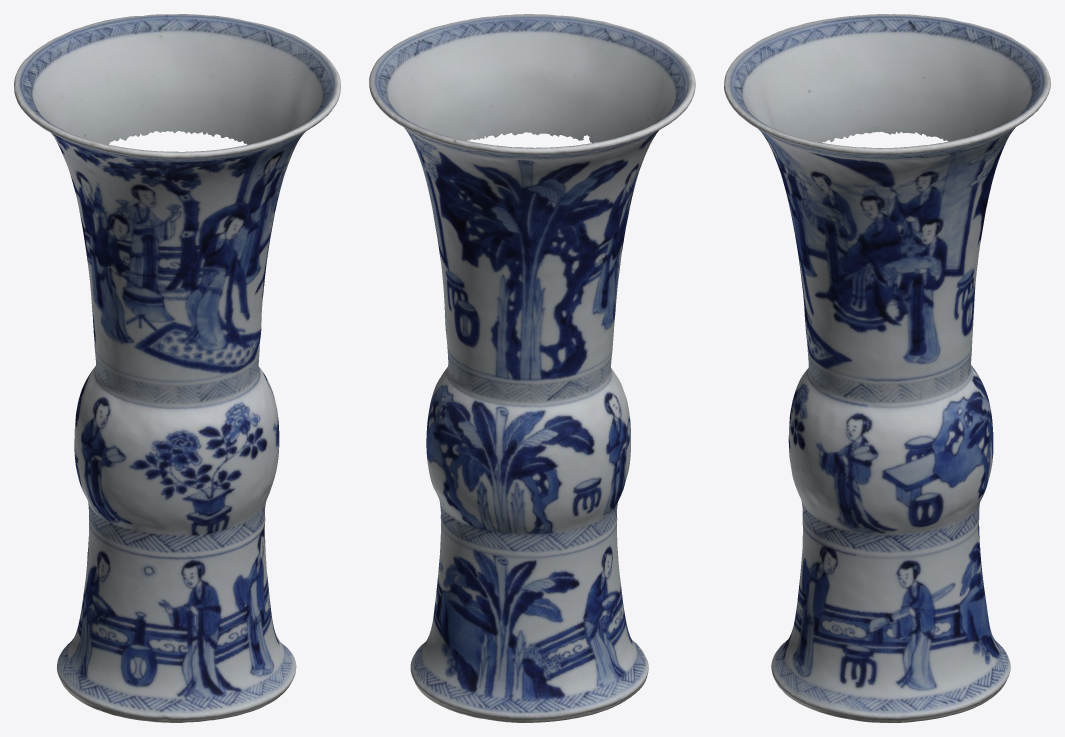
The model's file is f1980_193-smooth-textured-150k-2048-medium-100k-2048_std_draco.glb.
3 renders of one model, left to right at view 1: azimuth 30°, elevation 25°; view 2: azimuth 150°, elevation 25°; view 3: azimuth 270°, elevation 25°, orthographic.
Bounding box in the file's own units: 0.2106 × 0.4236 × 0.2109.
1 material, 1 textured.
